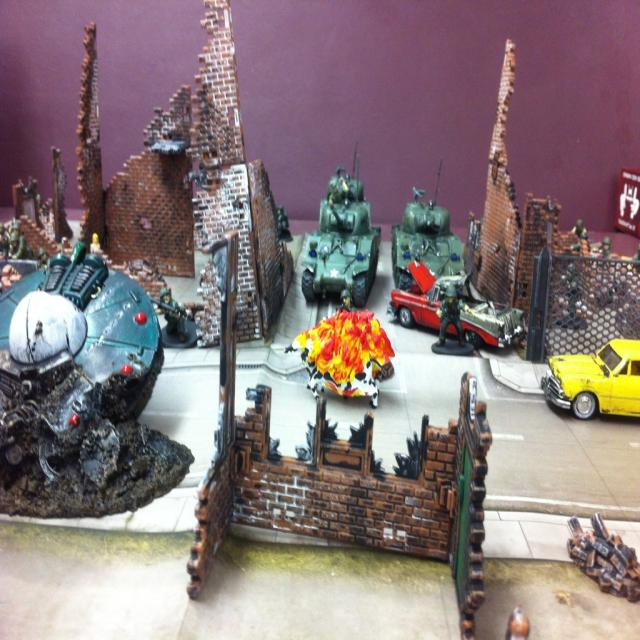car: (387, 260, 527, 349), (545, 337, 634, 424)
